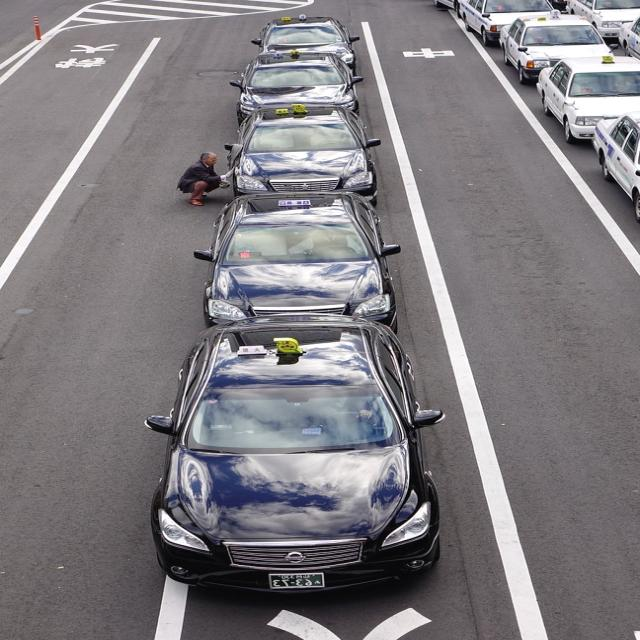Carro Branco: (484, 17, 640, 82), (531, 51, 640, 142), (585, 97, 640, 243), (447, 0, 562, 48)
Carro Preto: (152, 310, 442, 610), (196, 188, 399, 338), (228, 105, 383, 204), (235, 52, 379, 126), (251, 12, 363, 64)
